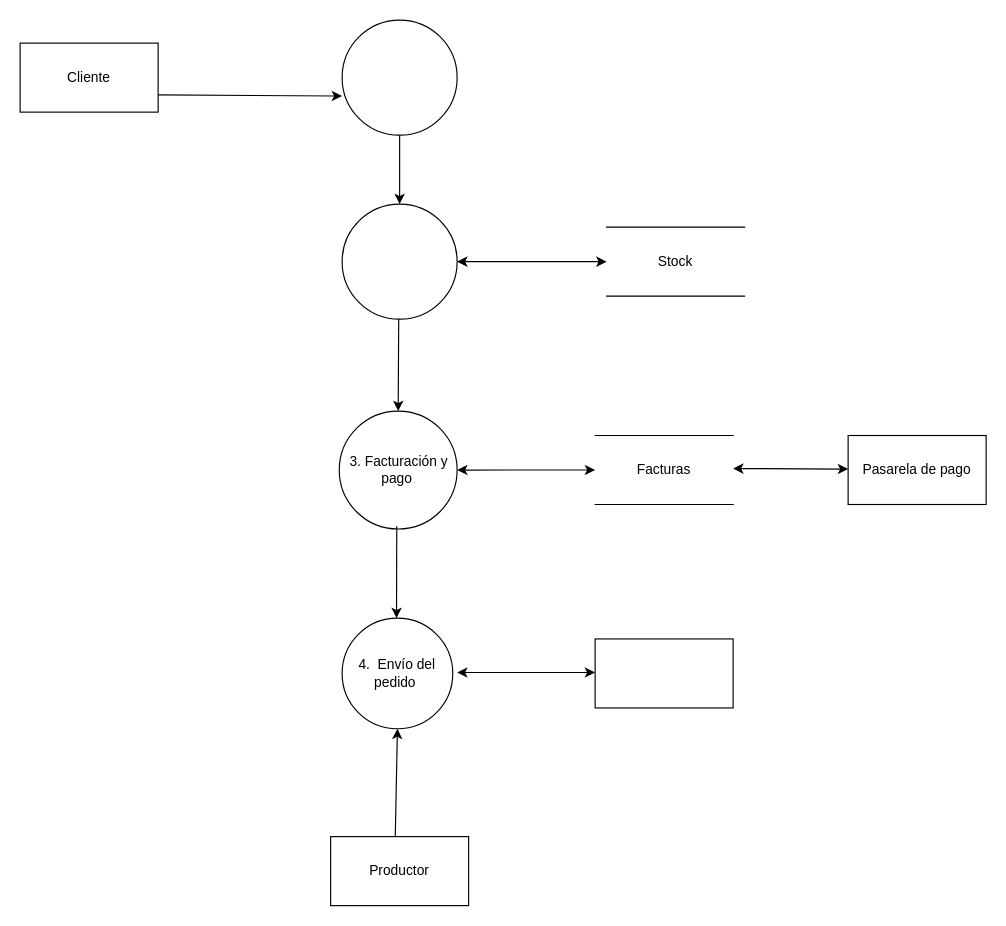
Image size: 1006x926. Some labels were removed from this diagram. Here are the shapes that lost their labels. From the top down, the box of each, then its label:
(341, 19, 457, 135): 1. Recepeción y validación pedido
(341, 203, 457, 319): 2. Gestión de stock
(594, 638, 733, 708): Empresa de mensajería
